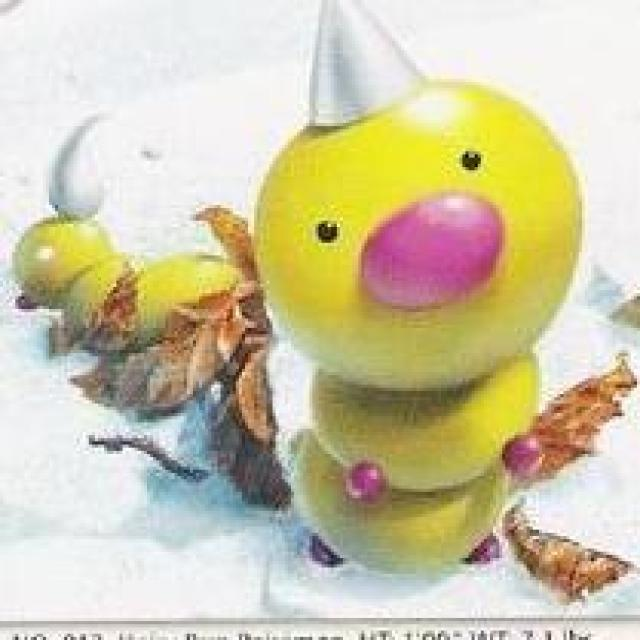Weedle: (64, 39, 571, 583)
